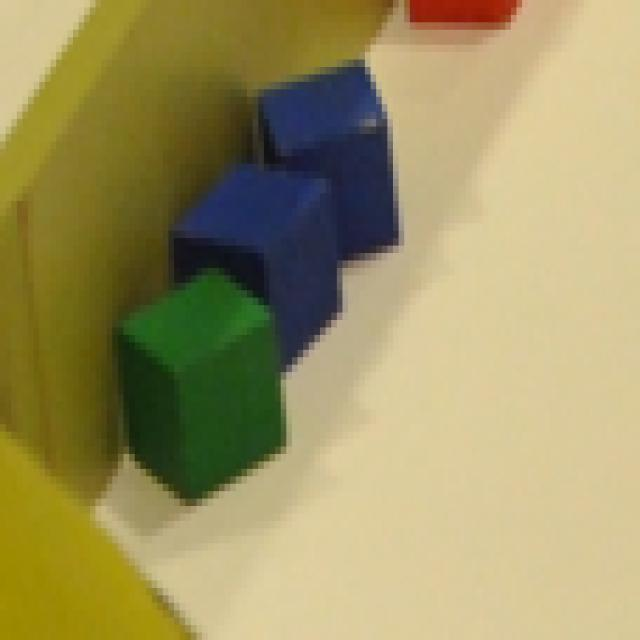bluecube: (169, 158, 342, 374), (253, 58, 401, 261)
green cube: (117, 265, 289, 499)
